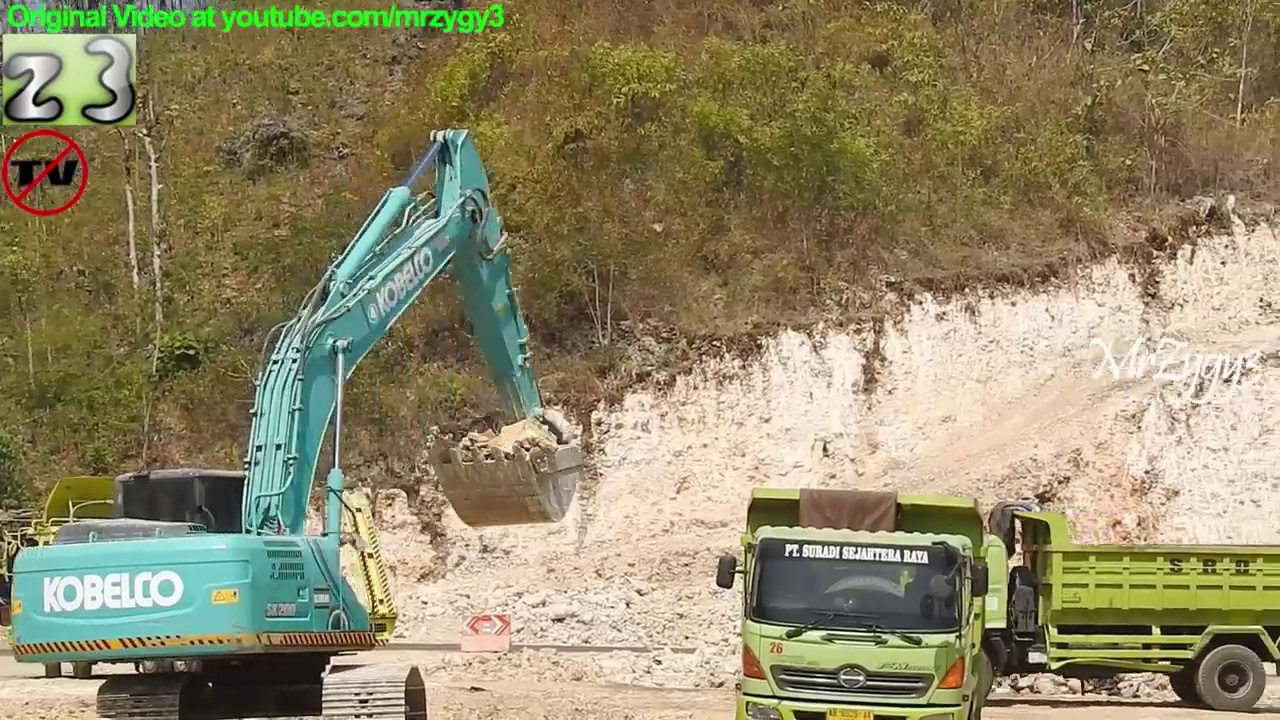excavator: (7, 124, 590, 720)
truck: (848, 496, 1280, 716), (2, 468, 400, 682), (710, 479, 994, 720)
